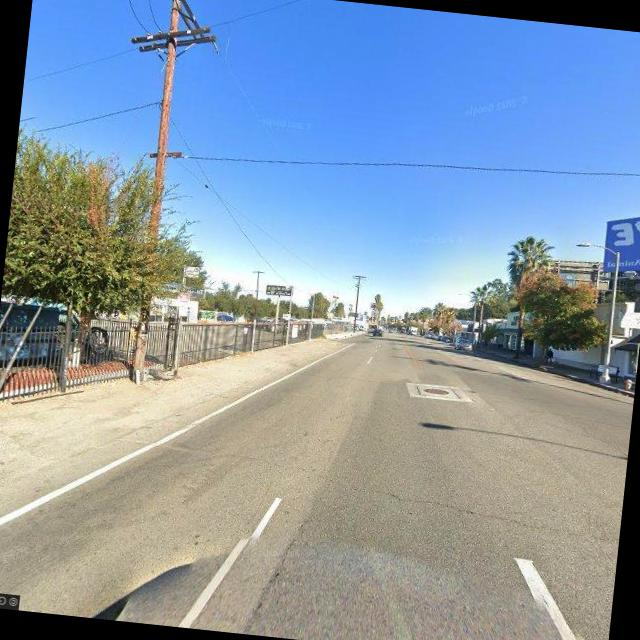crack: (296, 462, 616, 544)
